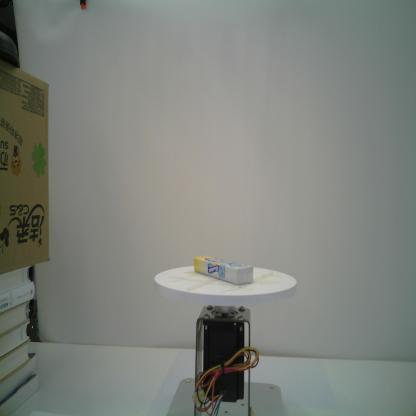Candy: (193, 256, 254, 286)
